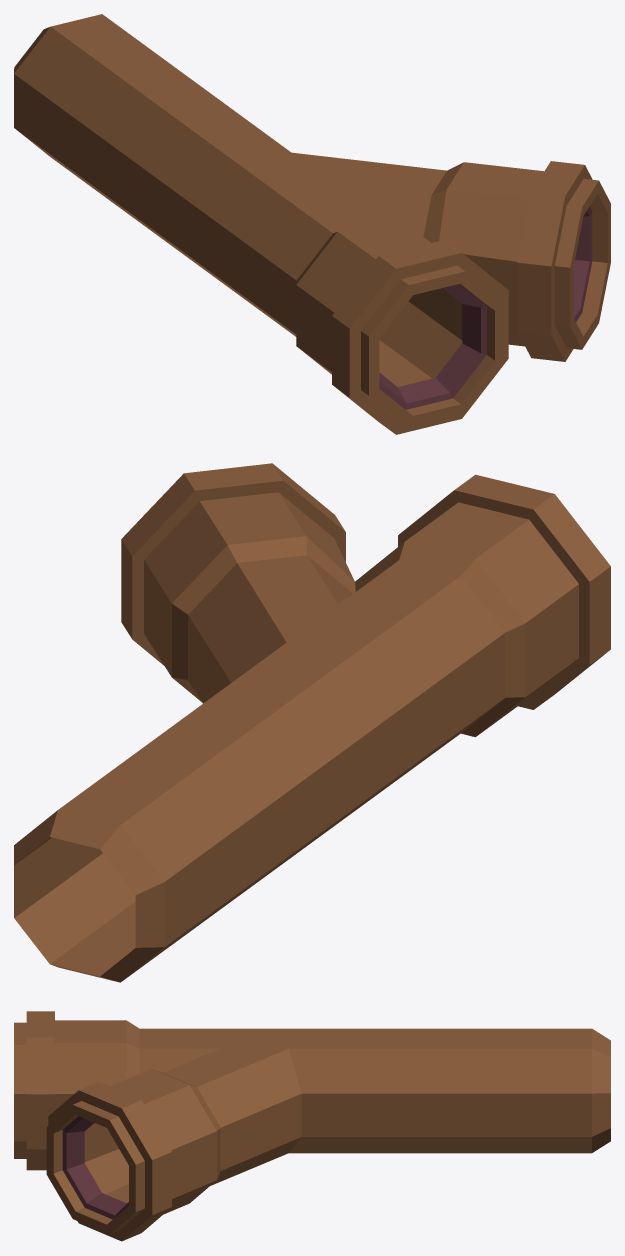
File: pipe-45.fbx
The picture shows the model from 3 angles, top to bottom: view 1: azimuth 30°, elevation 25°; view 2: azimuth 150°, elevation 25°; view 3: azimuth 270°, elevation 25°; orthographic projection. The views are drawn at different scales.
Parts seen in each view (by area): view 1: pipe-45; view 2: pipe-45; view 3: pipe-45.
Boxes of the visible parts, <box> form: pipe-45: <box>14,14,610,434</box>; pipe-45: <box>14,463,610,982</box>; pipe-45: <box>14,1011,610,1241</box>.
Bounding box in the file's own units: 0.6821 × 0.3288 × 1.34.
